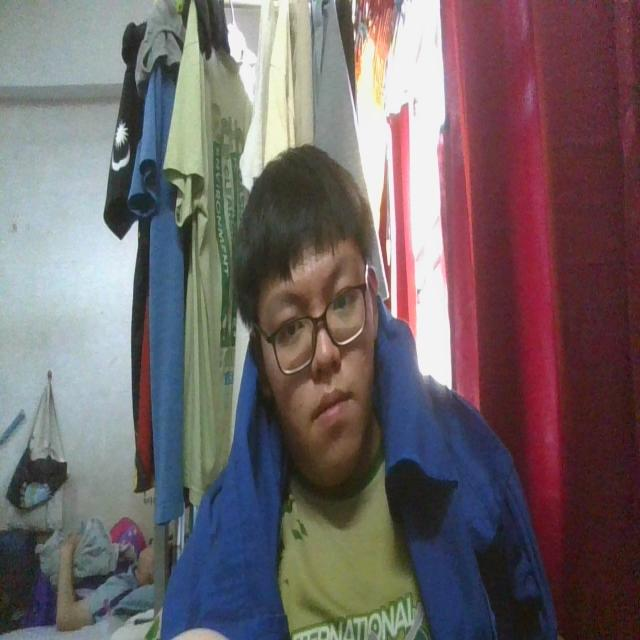person_without_labcoat: (162, 146, 557, 639)
